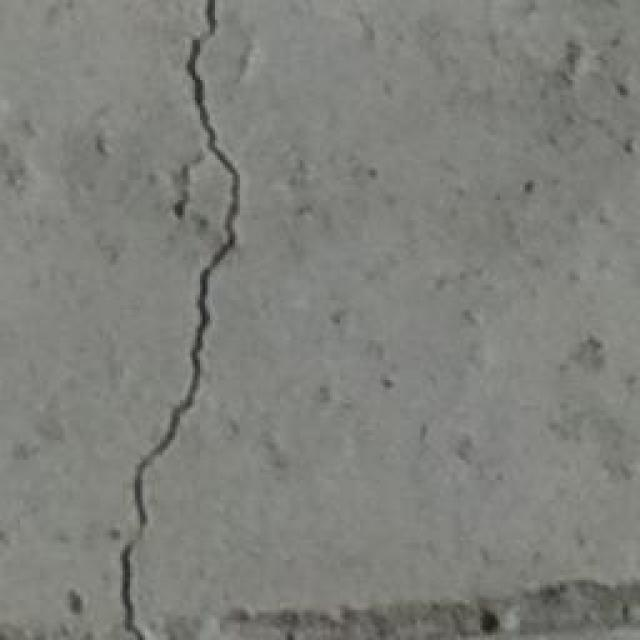Longitudinal: (117, 0, 264, 640)
